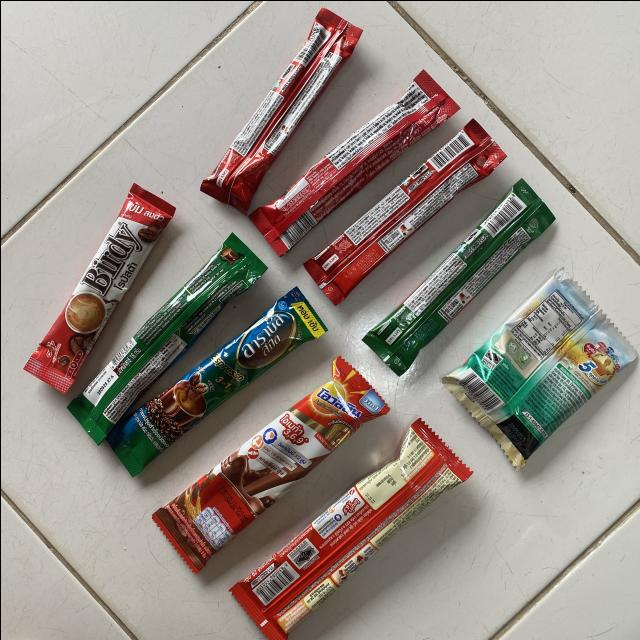plastik: (229, 418, 470, 640), (151, 356, 387, 572), (67, 232, 267, 444), (106, 287, 325, 475), (249, 69, 459, 254), (442, 269, 636, 468), (303, 118, 505, 304), (363, 178, 553, 374), (201, 7, 361, 212), (23, 182, 175, 392)
